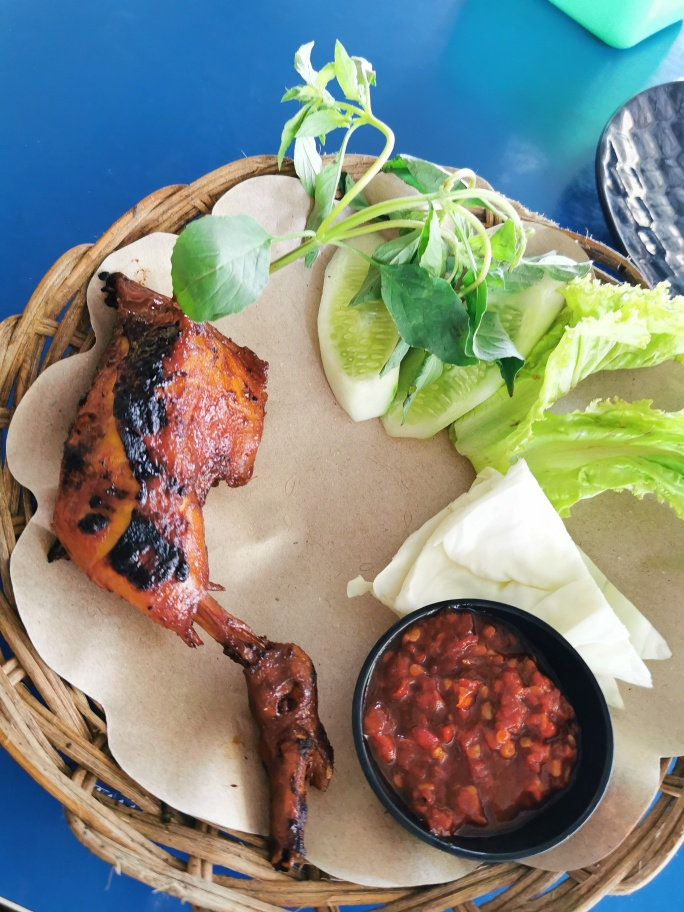ayam bakar: (62, 265, 358, 858)
